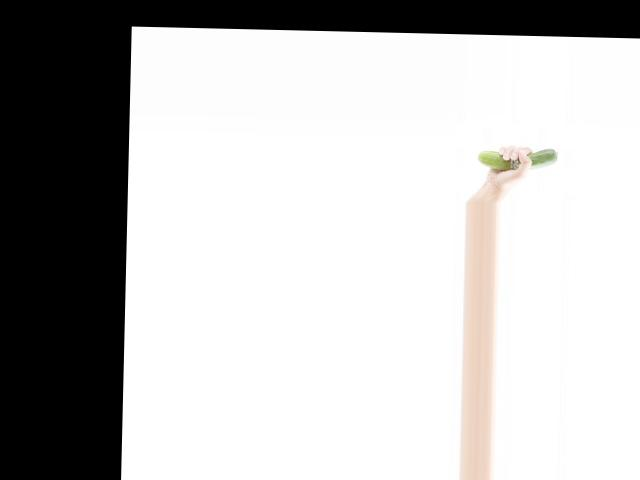cucumber: (478, 146, 557, 171)
